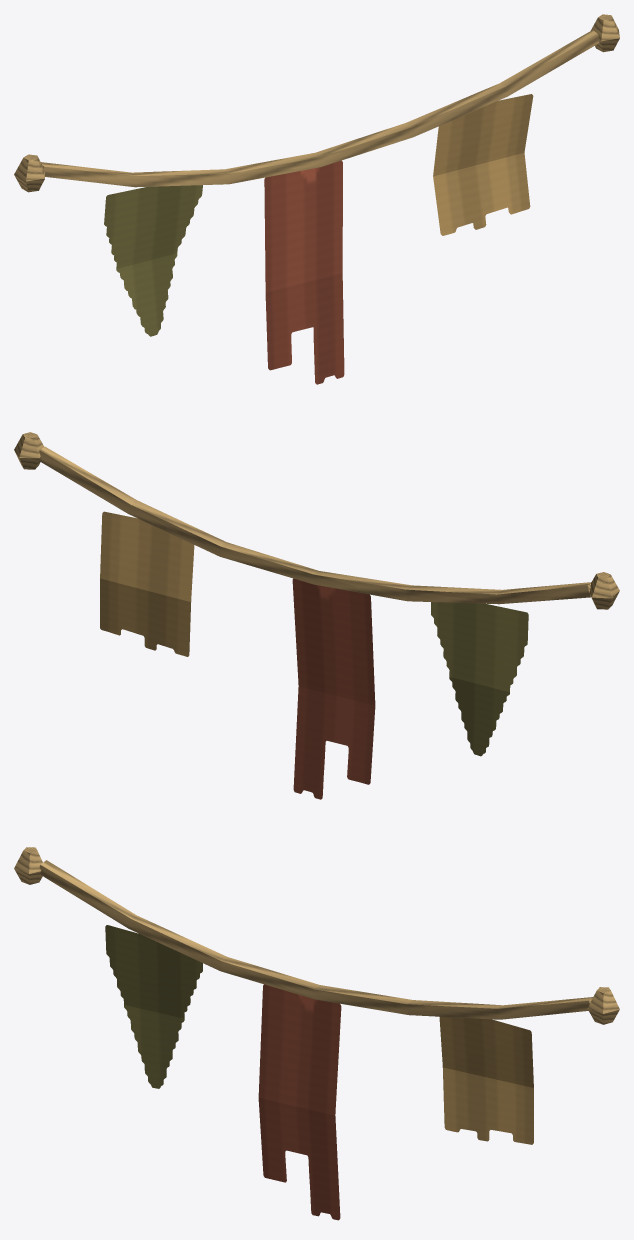
Rendered from SM_MK09_ClothPennants.fbx.
The picture shows the model from 3 angles, top to bottom: view 1: azimuth 30°, elevation 25°; view 2: azimuth 150°, elevation 25°; view 3: azimuth 330°, elevation 25°; orthographic projection.
Parts seen in each view (by area): view 1: MK09_Cloth, MK09_Rope; view 2: MK09_Cloth, MK09_Rope; view 3: MK09_Cloth, MK09_Rope.
Part boxes in pixels (<box>): MK09_Cloth: <box>104,94,533,384</box>; MK09_Rope: <box>14,14,619,192</box>; MK09_Cloth: <box>100,511,528,799</box>; MK09_Rope: <box>14,432,619,609</box>; MK09_Cloth: <box>105,925,533,1220</box>; MK09_Rope: <box>14,847,619,1024</box>.
Bounding box in the file's own units: 1.22 × 0.5831 × 0.0569.
